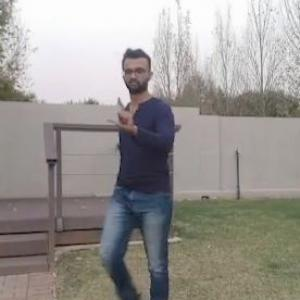land_hand: (104, 96, 142, 134)
